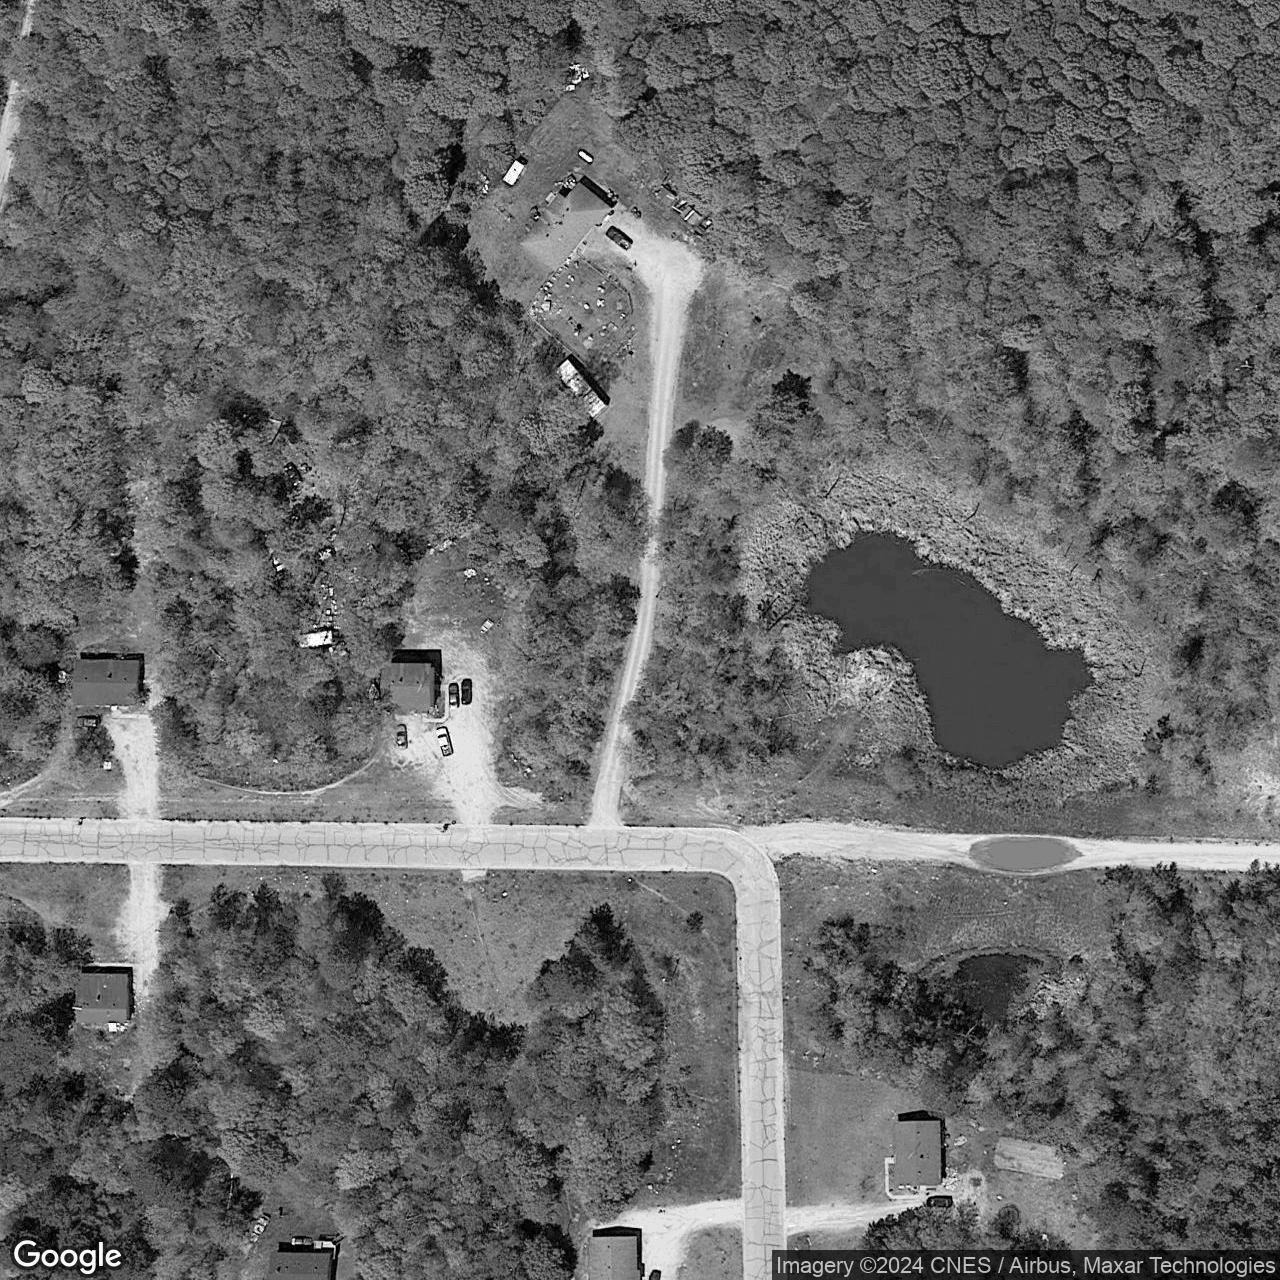House: (518, 179, 615, 272), (70, 658, 143, 707), (892, 1121, 942, 1186), (72, 971, 130, 1024), (380, 662, 437, 714), (585, 1235, 641, 1279), (267, 1253, 333, 1279)
Propane: (578, 147, 597, 164)
